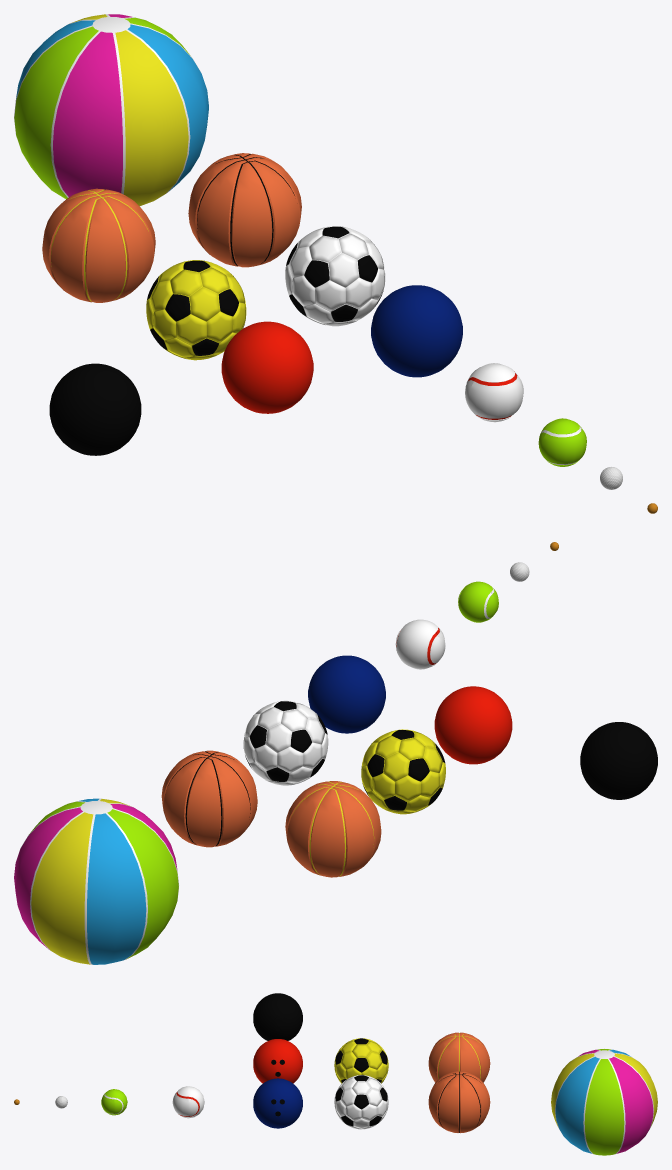
Rendered from balls.fbx.
3 views of the same model, one above another, from view 1: azimuth 30°, elevation 25°; view 2: azimuth 150°, elevation 25°; view 3: azimuth 270°, elevation 25° (orthographic). The views are drawn at different scales.
Parts seen in each view (by area): view 1: Sphere.005, Sphere.008, Sphere, Football, Football.001, Sphere.007, Sphere.006, Sphere.002, Sphere.003, Mesh; view 2: Sphere.005, Sphere, Sphere.008, Football, Football.001, Sphere.006, Sphere.007, Sphere.002, Sphere.003, Mesh; view 3: Sphere.005, Sphere, Football, Sphere.008, Sphere.002, Sphere.007, Football.001, Sphere.006, Sphere.003, Mesh.
Boxes of the visible parts, bbox=[...] form: Sphere.005: bbox=[14, 14, 208, 206]; Sphere.008: bbox=[42, 188, 155, 302]; Sphere: bbox=[188, 153, 301, 267]; Football: bbox=[285, 226, 385, 326]; Football.001: bbox=[146, 260, 246, 360]; Sphere.007: bbox=[49, 363, 141, 455]; Sphere.006: bbox=[221, 321, 313, 413]; Sphere.002: bbox=[371, 285, 462, 377]; Sphere.003: bbox=[465, 363, 523, 422]; Mesh: bbox=[538, 418, 586, 466]; Sphere.005: bbox=[14, 798, 178, 964]; Sphere: bbox=[161, 750, 257, 847]; Sphere.008: bbox=[285, 781, 381, 877]; Football: bbox=[243, 700, 328, 785]; Football.001: bbox=[361, 729, 445, 814]; Sphere.006: bbox=[434, 686, 512, 764]; Sphere.007: bbox=[580, 722, 657, 799]; Sphere.002: bbox=[308, 655, 385, 733]; Sphere.003: bbox=[395, 619, 445, 669]; Mesh: bbox=[458, 581, 498, 622]; Sphere.005: bbox=[551, 1049, 657, 1155]; Sphere: bbox=[428, 1071, 490, 1133]; Football: bbox=[334, 1075, 388, 1129]; Sphere.008: bbox=[428, 1032, 490, 1082]; Sphere.002: bbox=[253, 1078, 302, 1128]; Sphere.007: bbox=[253, 993, 302, 1040]; Football.001: bbox=[334, 1038, 388, 1083]; Sphere.006: bbox=[253, 1039, 302, 1083]; Sphere.003: bbox=[172, 1086, 204, 1118]; Mesh: bbox=[101, 1089, 127, 1115].
Bounding box in the file's own units: 8.14 × 3.08 × 18.93.
